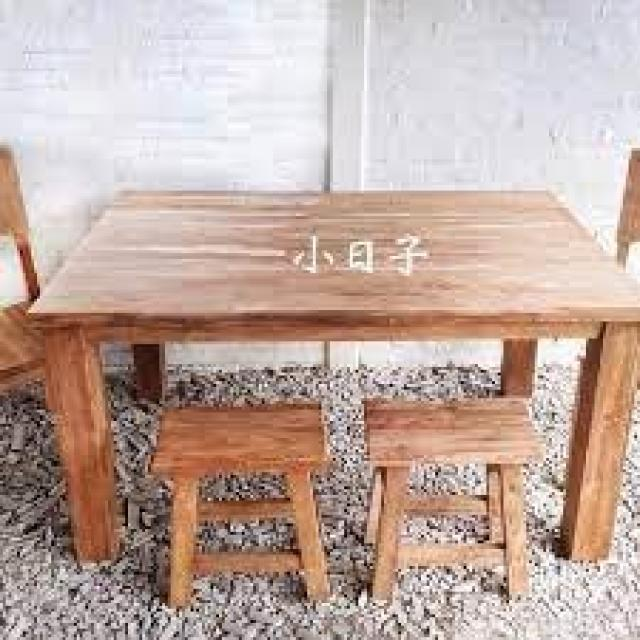table: (44, 118, 622, 559)
